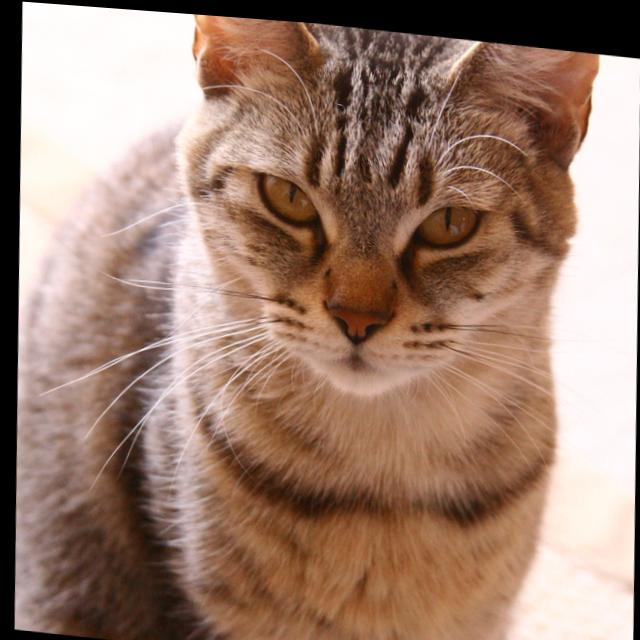animals: (189, 11, 589, 351)
